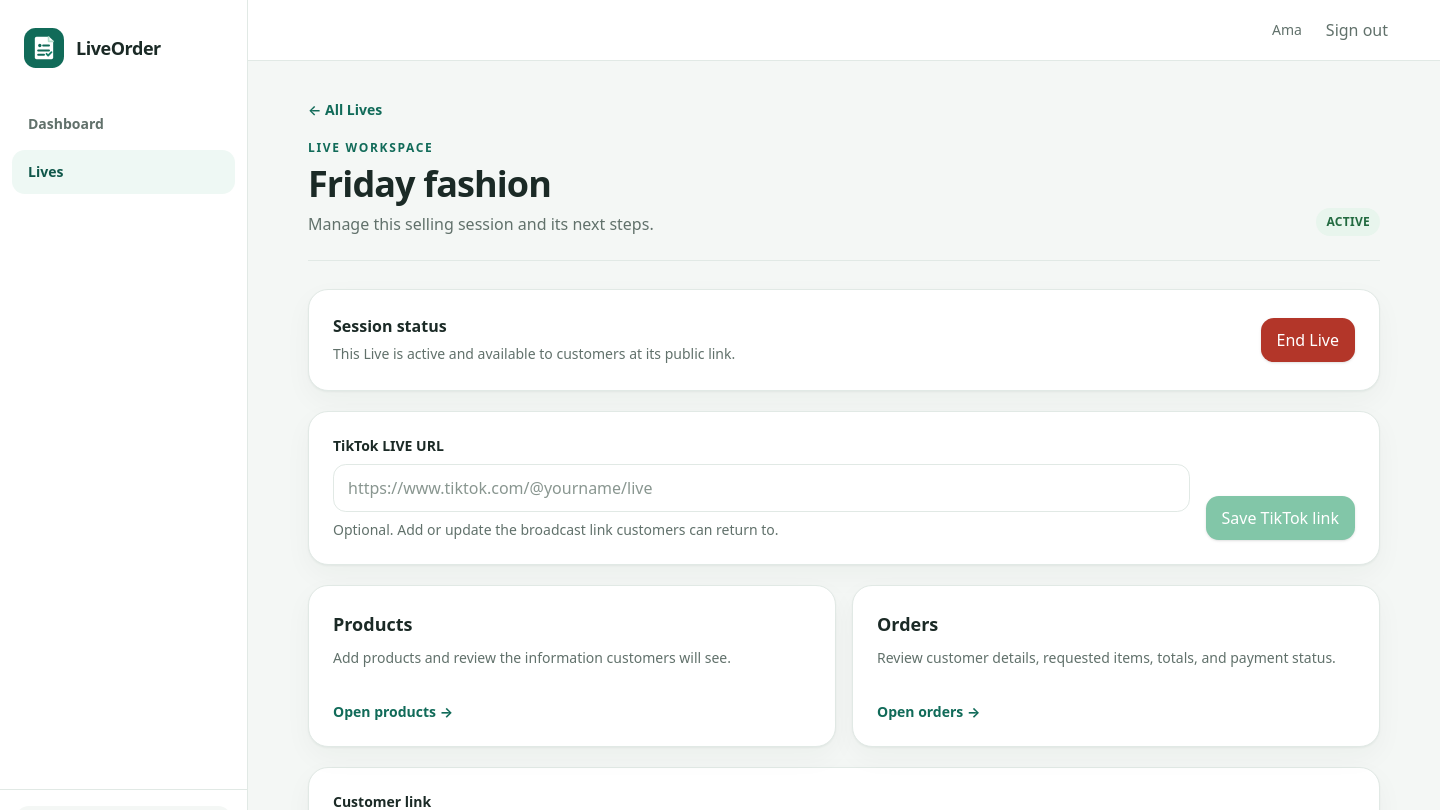
Test: seller Live management › updates a TikTok LIVE URL from the Live workspace
Type "https://live.tiktok.com/@creator/live" into the field labelled "TikTok LIVE URL".
click(761, 488); type("https://live.tiktok.com/@creator/live")  # box [333,464,1190,512]
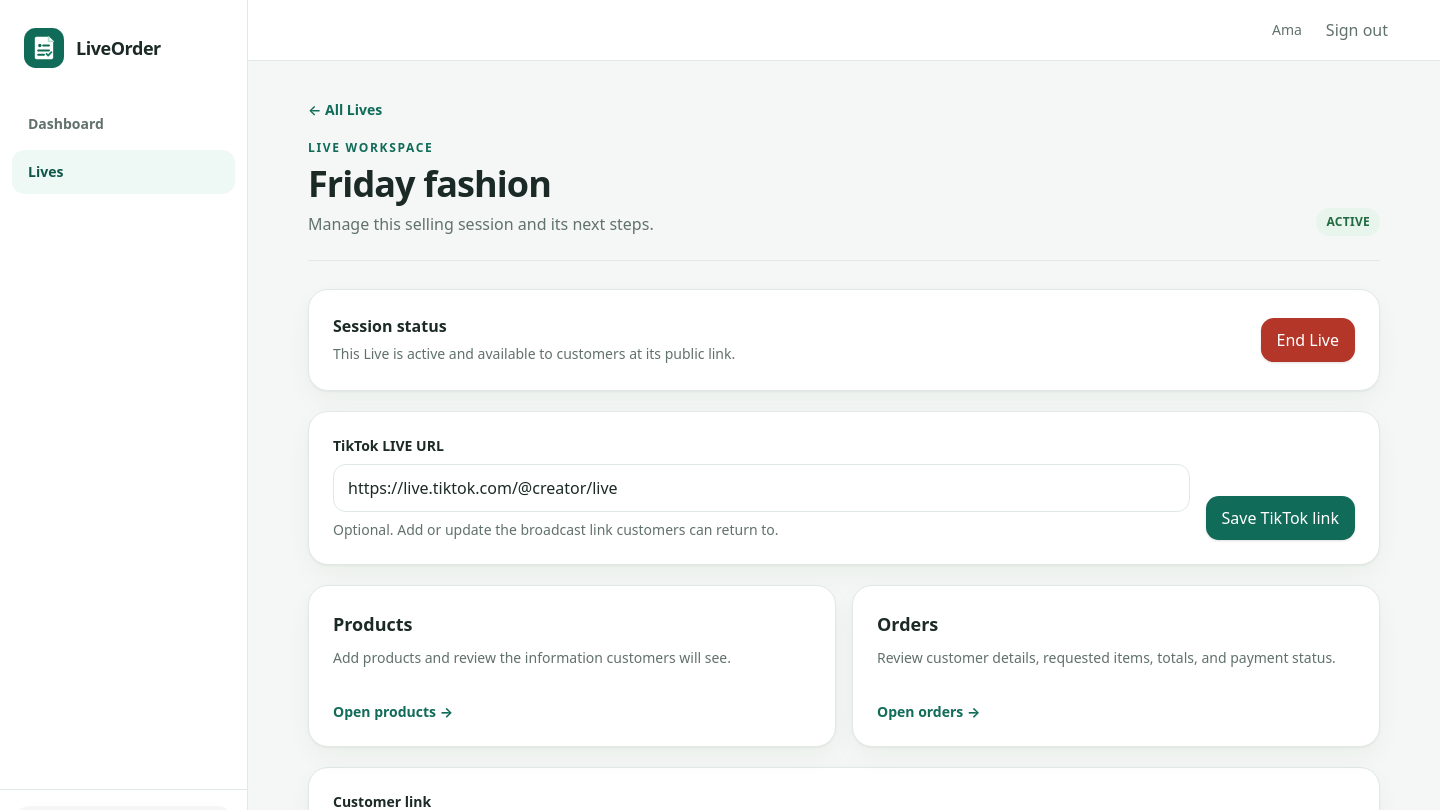
Click the button "Save TikTok link".
click(1280, 518)  # box [1206,496,1355,540]
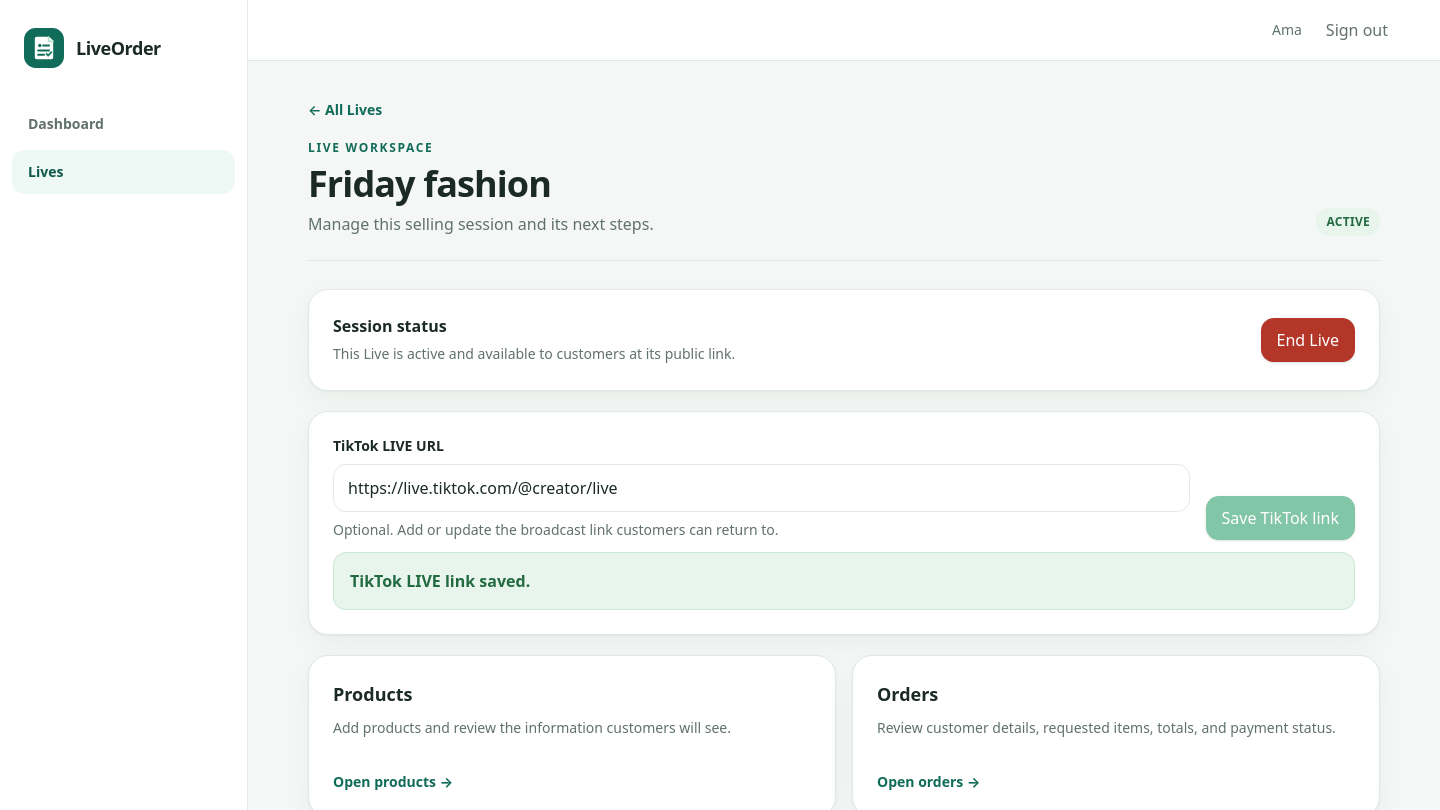
Now the text "TikTok LIVE link saved." is shown, box [350,570,530,592]
